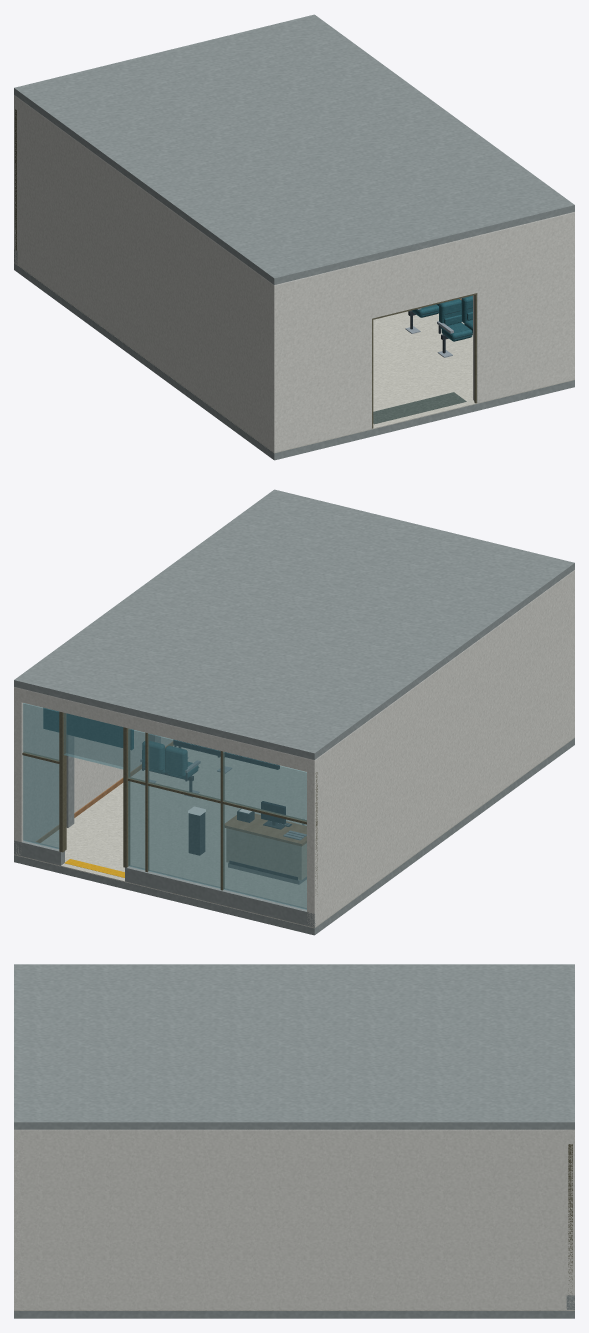
The picture shows the model from 3 angles, top to bottom: view 1: azimuth 30°, elevation 25°; view 2: azimuth 150°, elevation 25°; view 3: azimuth 270°, elevation 25°; orthographic projection. The views are drawn at different scales.
Parts seen in each view (by area): view 1: VIS_STRUCT_CEILING_SLAB, VIS_SOLID_WALL_LEFT, VIS_FRONT_WALL_LEFT, VIS_FRONT_WALL_RIGHT, VIS_FLOOR_TERRAZZO, VIS_FRONT_OVER_DOOR_BEAM, VIS_STRUCT_FLOOR_SLAB, VIS_ENTRY_RECESSED_MAT, VIS_CEILING_FINISH, VIS_SEAT_UPHOLSTERED_CUSHION, VIS_SEAT_PADDED_BACK; view 2: VIS_STRUCT_CEILING_SLAB, VIS_SOLID_WALL_LEFT, VIS_AIRSIDE_GLASS_PANE, VIS_FLOOR_TERRAZZO, VIS_SOLID_WALL_RIGHT, VIS_STRUCT_FLOOR_SLAB, VIS_AIRSIDE_HEADER, VIS_AIRSIDE_SILL, VIS_GATE_PASSAGE_HEADER, VIS_DESK_CREAM_FRONT, VIS_GATE_C07_HEADER, VIS_AIRSIDE_GLASS_MULLION (+9 smaller); view 3: VIS_SOLID_WALL_RIGHT, VIS_STRUCT_CEILING_SLAB, VIS_STRUCT_FLOOR_SLAB, VIS_FRONT_WALL_RIGHT, VIS_CEILING_FINISH, VIS_AIRSIDE_VERTICAL_MULLION, VIS_FLOOR_TERRAZZO.
Part boxes in pixels (<box>): VIS_STRUCT_CEILING_SLAB: <box>14,14,574,284</box>; VIS_SOLID_WALL_LEFT: <box>14,96,281,451</box>; VIS_FRONT_WALL_LEFT: <box>270,261,371,452</box>; VIS_FRONT_WALL_RIGHT: <box>473,212,574,402</box>; VIS_FLOOR_TERRAZZO: <box>14,262,574,453</box>; VIS_FRONT_OVER_DOOR_BEAM: <box>372,236,477,318</box>; VIS_STRUCT_FLOOR_SLAB: <box>14,263,574,460</box>; VIS_ENTRY_RECESSED_MAT: <box>373,392,466,424</box>; VIS_CEILING_FINISH: <box>14,95,574,285</box>; VIS_SEAT_UPHOLSTERED_CUSHION: <box>411,299,472,341</box>; VIS_SEAT_PADDED_BACK: <box>439,295,472,328</box>; VIS_STRUCT_CEILING_SLAB: <box>14,489,574,759</box>; VIS_SOLID_WALL_LEFT: <box>307,570,574,926</box>; VIS_AIRSIDE_GLASS_PANE: <box>23,703,306,909</box>; VIS_FLOOR_TERRAZZO: <box>14,737,574,928</box>; VIS_SOLID_WALL_RIGHT: <box>14,688,172,854</box>; VIS_STRUCT_FLOOR_SLAB: <box>14,738,574,935</box>; VIS_AIRSIDE_HEADER: <box>14,687,317,773</box>; VIS_AIRSIDE_SILL: <box>125,865,315,927</box>; VIS_GATE_PASSAGE_HEADER: <box>63,713,123,769</box>; VIS_DESK_CREAM_FRONT: <box>226,828,304,879</box>; VIS_GATE_C07_HEADER: <box>43,707,133,749</box>; VIS_AIRSIDE_GLASS_MULLION: <box>145,732,224,890</box>; VIS_SOLID_WALL_RIGHT: <box>14,1129,574,1309</box>; VIS_STRUCT_CEILING_SLAB: <box>14,964,574,1129</box>; VIS_STRUCT_FLOOR_SLAB: <box>14,1311,574,1318</box>; VIS_FRONT_WALL_RIGHT: <box>14,1129,23,1309</box>; VIS_CEILING_FINISH: <box>14,1129,565,1130</box>; VIS_AIRSIDE_VERTICAL_MULLION: <box>568,1144,572,1293</box>; VIS_FLOOR_TERRAZZO: <box>14,1310,574,1310</box>.
Bounding box in the file's own units: 8 × 4.63 × 12.
22 materials, 22 textured.
